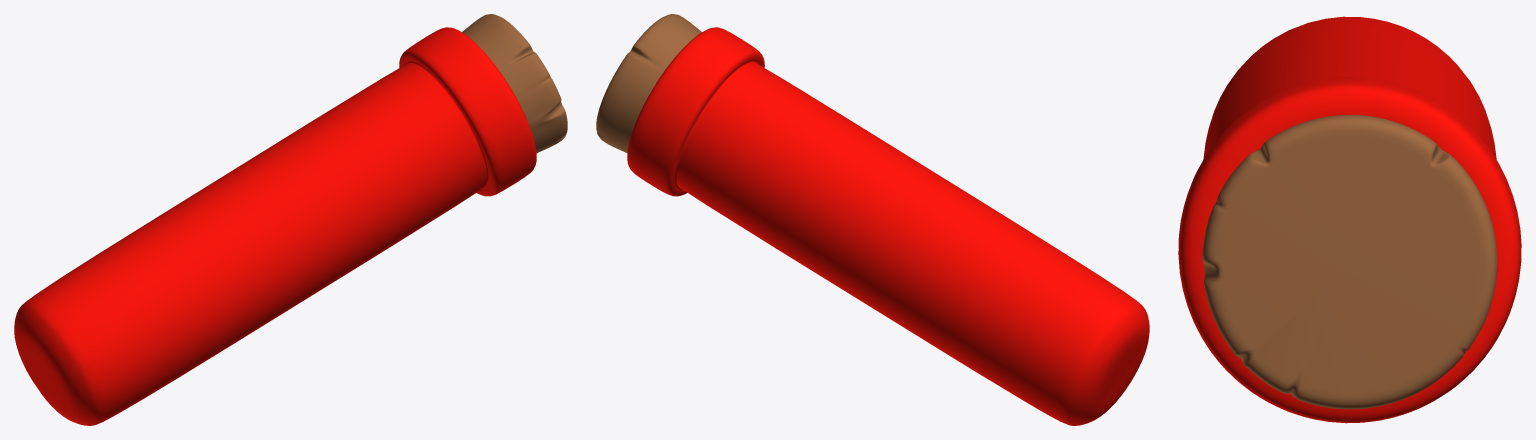
File: Lagrimas_de_Dragao.fbx
The picture shows the model from 3 angles, left to right: view 1: azimuth 30°, elevation 25°; view 2: azimuth 150°, elevation 25°; view 3: azimuth 270°, elevation 25°; orthographic projection. The views are drawn at different scales.
Visible parts, largest first — view 1: Lagrimas De Dragao - Low; view 2: Lagrimas De Dragao - Low; view 3: Lagrimas De Dragao - Low.
Part boxes in pixels (x1,y1,x2,y2): Lagrimas De Dragao - Low: (14, 14, 567, 425); Lagrimas De Dragao - Low: (596, 14, 1149, 425); Lagrimas De Dragao - Low: (1178, 16, 1521, 423).
Bounding box in the file's own units: 154 × 84.23 × 44.19.
